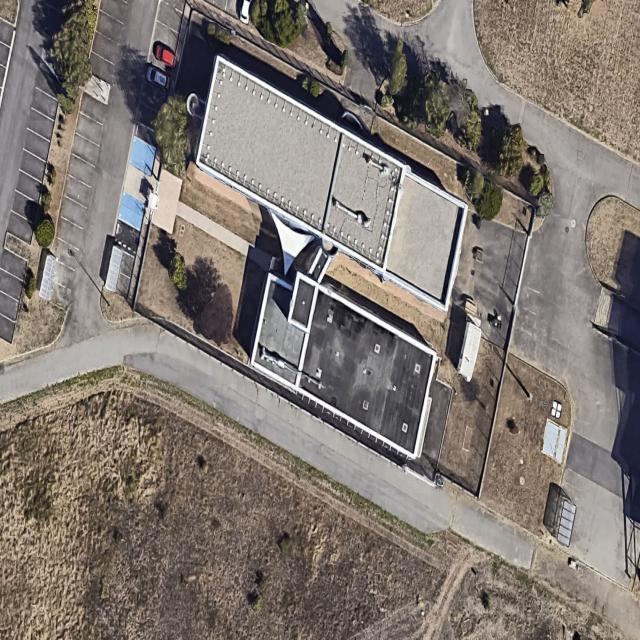immeuble: (158, 53, 501, 317), (223, 257, 471, 462)
